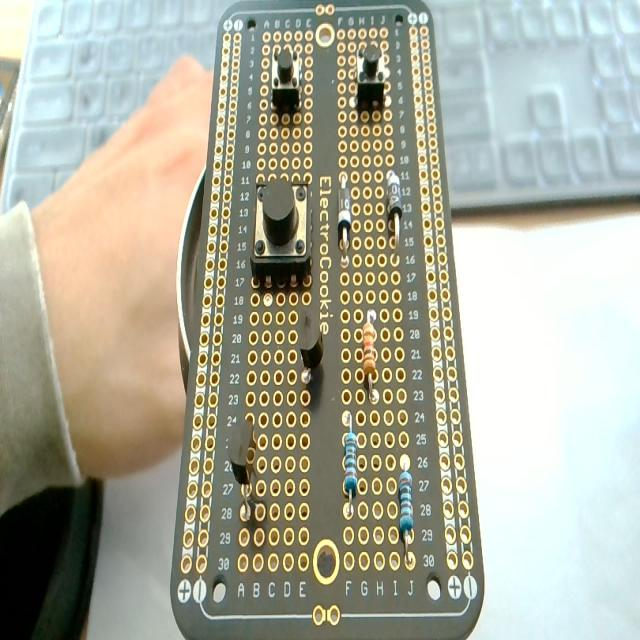diode: (386, 168, 402, 248), (337, 173, 352, 251)
resistor: (341, 412, 358, 518), (397, 463, 414, 566), (360, 316, 378, 406)
switch: (252, 178, 312, 285), (270, 45, 300, 112), (356, 45, 386, 108)
transistor: (232, 415, 260, 520), (298, 310, 324, 384)
